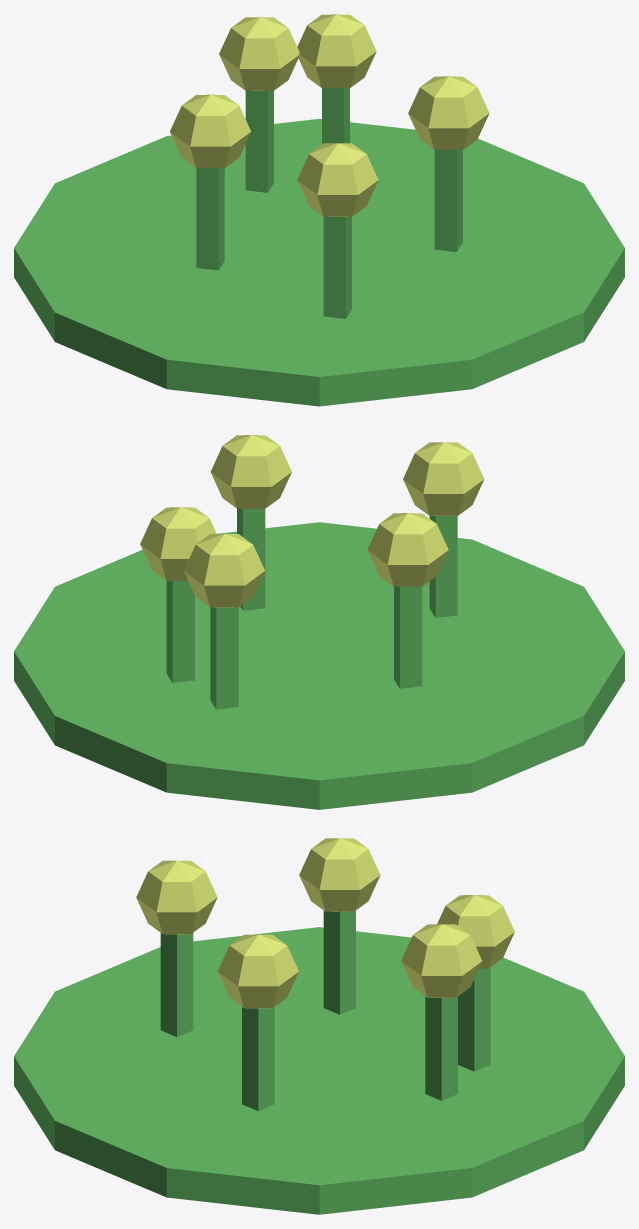
Rendered from herb_node.dae.
3 views of the same model, one above another, from view 1: azimuth 30°, elevation 25°; view 2: azimuth 150°, elevation 25°; view 3: azimuth 270°, elevation 25° (orthographic).
Visible parts, largest first — view 1: Cylinder, Sphere, Sphere.003, Sphere.001, Sphere.002, Sphere.004, Cylinder.001, Cylinder.004, Cylinder.002, Cylinder.003, Cylinder.005; view 2: Cylinder, Sphere.001, Sphere.003, Sphere, Sphere.002, Sphere.004, Cylinder.001, Cylinder.003, Cylinder.005, Cylinder.004, Cylinder.002; view 3: Cylinder, Sphere.001, Sphere.003, Sphere, Sphere.004, Cylinder.004, Cylinder.001, Cylinder.002, Cylinder.005, Sphere.002, Cylinder.003.
Boxes of the visible parts, x1,y1,x2,y2 form: Cylinder: (14, 119, 624, 406); Sphere: (170, 94, 251, 168); Sphere.003: (297, 143, 378, 216); Sphere.001: (408, 76, 489, 149); Sphere.002: (219, 17, 299, 90); Sphere.004: (297, 14, 376, 87); Cylinder.001: (196, 168, 224, 270); Cylinder.004: (323, 216, 351, 318); Cylinder.002: (434, 150, 462, 251); Cylinder.003: (245, 90, 273, 192); Cylinder.005: (322, 88, 349, 144); Cylinder: (14, 522, 624, 809); Sphere.001: (210, 435, 291, 508); Sphere.003: (403, 442, 484, 515); Sphere: (367, 513, 448, 586); Sphere.002: (184, 534, 264, 607); Sphere.004: (140, 507, 216, 580); Cylinder.001: (394, 586, 422, 688); Cylinder.003: (210, 607, 238, 709); Cylinder.005: (166, 581, 194, 682); Cylinder.004: (429, 515, 457, 617); Cylinder.002: (237, 508, 265, 610); Cylinder: (14, 927, 624, 1214); Sphere.001: (217, 934, 298, 1008); Sphere.003: (136, 860, 217, 934); Sphere: (299, 838, 380, 911); Sphere.004: (401, 924, 482, 997); Cylinder.004: (160, 933, 193, 1036); Cylinder.001: (323, 910, 355, 1014); Cylinder.002: (242, 1007, 274, 1111); Cylinder.005: (425, 996, 457, 1100); Sphere.002: (437, 895, 514, 968); Cylinder.003: (458, 967, 490, 1071).
Bounding box in the file's own units: 150 × 150 × 54.
